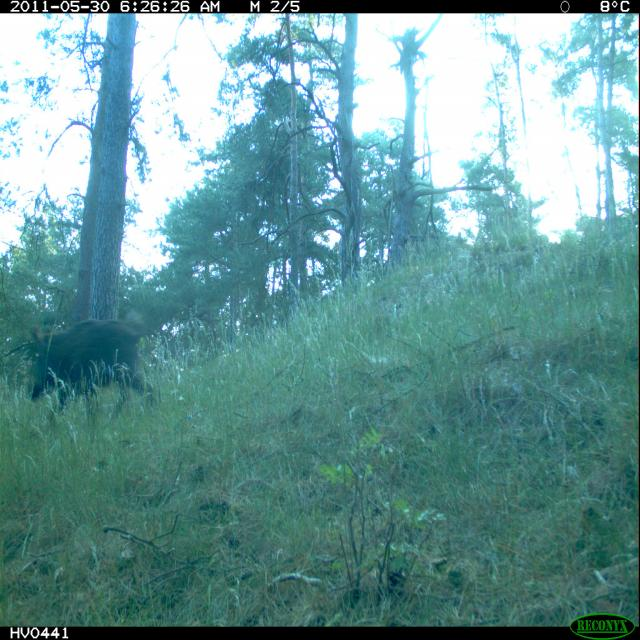boar: (8, 275, 195, 440)
